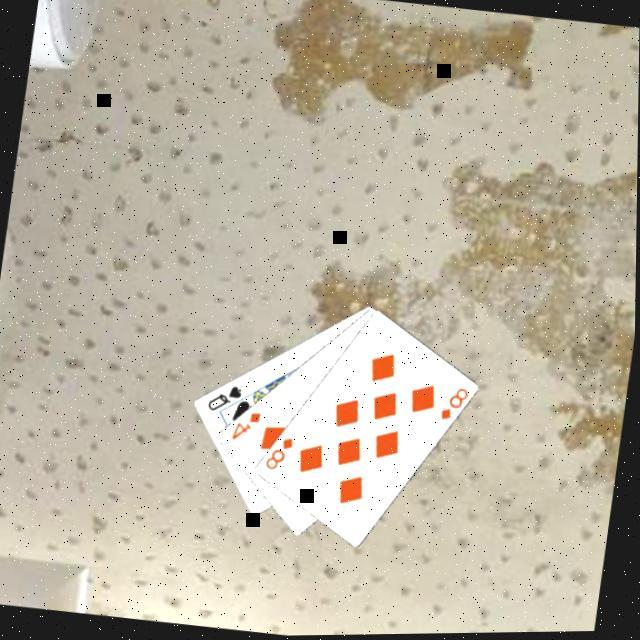4D: (229, 408, 265, 448)
8D: (436, 384, 474, 428), (262, 434, 298, 477)
QS: (205, 382, 248, 418)
